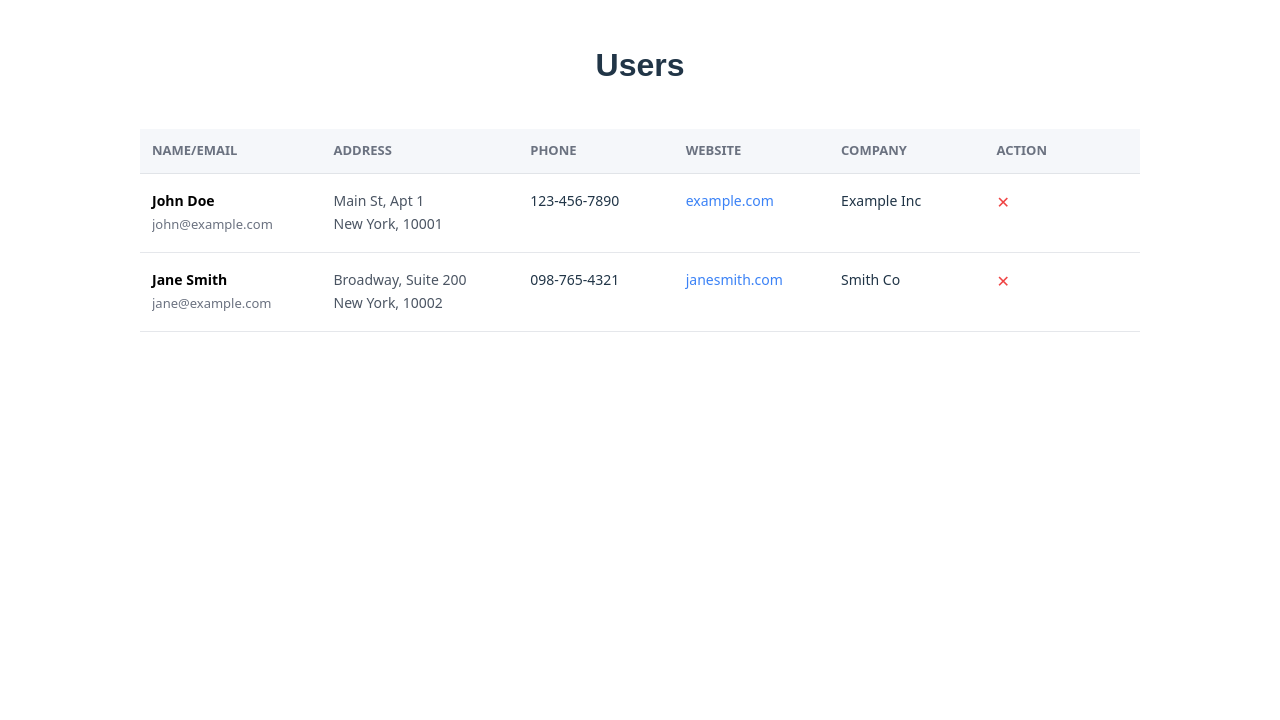
App Component › should open user detail modal when a user is clicked
The image size is (1280, 720).
// Click on a user
What coordinates should you click on to do the following:
click the text "John Doe"
I would click on:
 (183, 200)
Its box is [152,191,215,210].
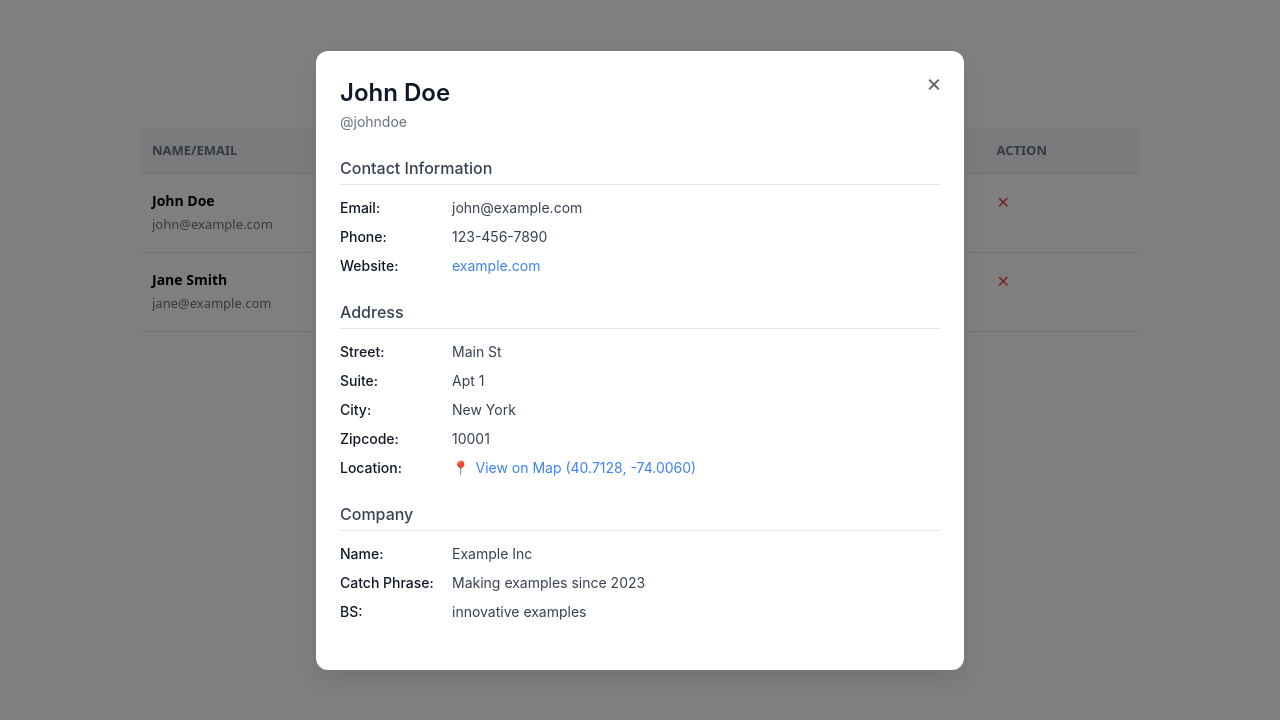
Result: the text "@johndoe" is shown at [340,112,407,130]
Result: the heading "Contact Information" is shown at [340,156,940,184]
